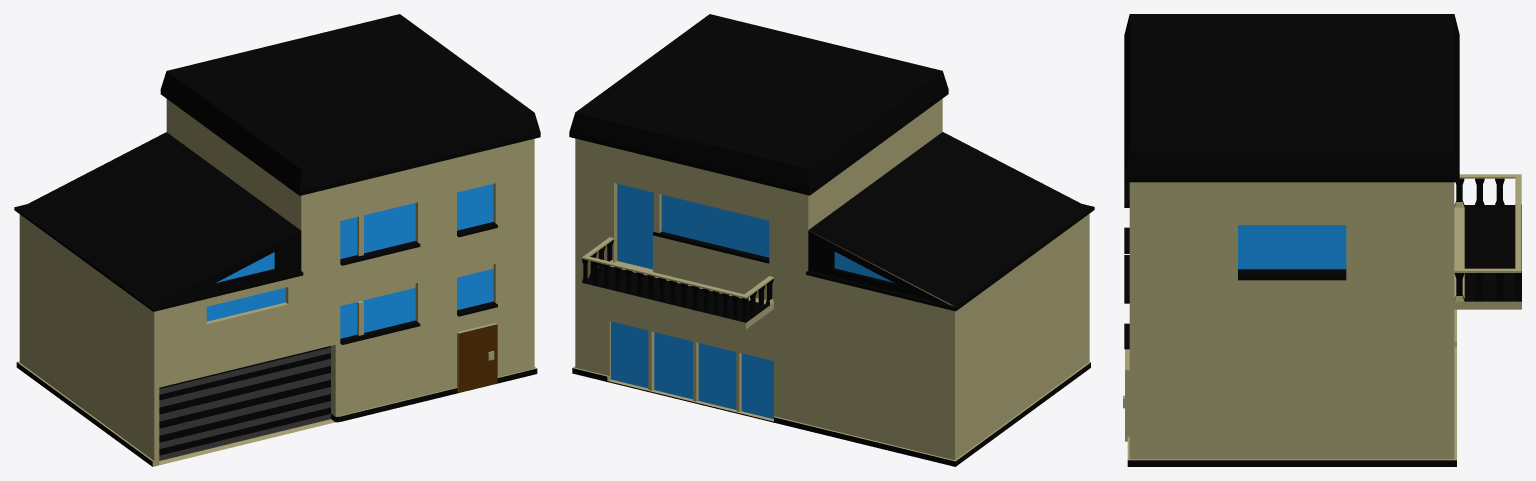
The model's file is Building-H3.fbx.
3 views of the same model, side by side, from view 1: azimuth 30°, elevation 25°; view 2: azimuth 150°, elevation 25°; view 3: azimuth 270°, elevation 25° (orthographic). The views are drawn at different scales.
Visible parts, largest first — view 1: Cube; view 2: Cube; view 3: Cube.
Boxes of the visible parts, x1,y1,x2,y2 form: Cube: (14,14,540,466); Cube: (569,14,1094,466); Cube: (1123,14,1521,466).
Bounding box in the file's own units: 228 × 146 × 168.
